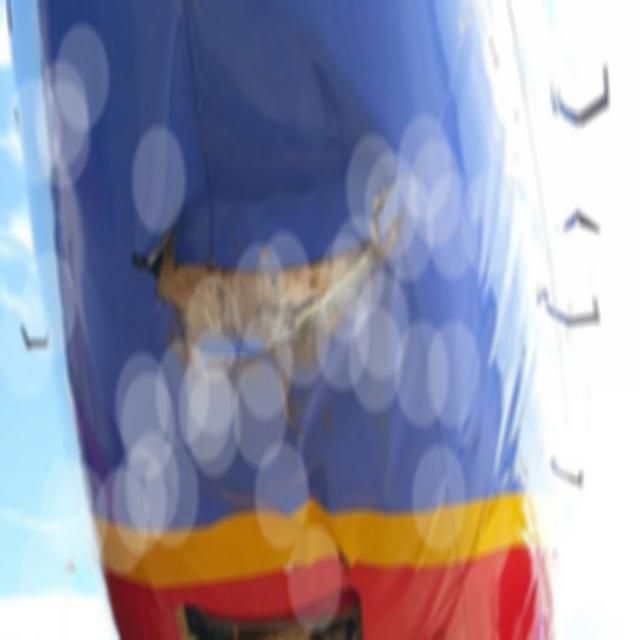crack: (131, 156, 419, 419)
